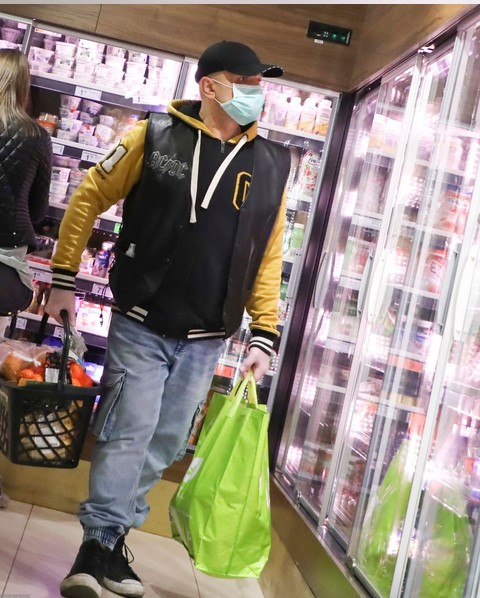face_with_mask: (197, 40, 267, 132)
